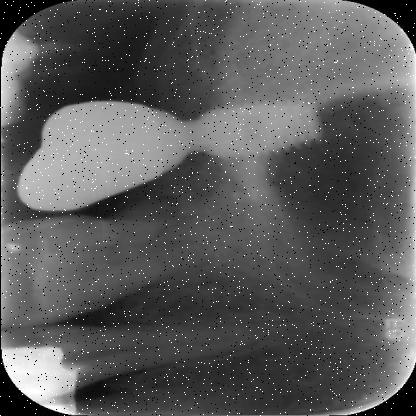Bicon: (189, 96, 329, 162)
